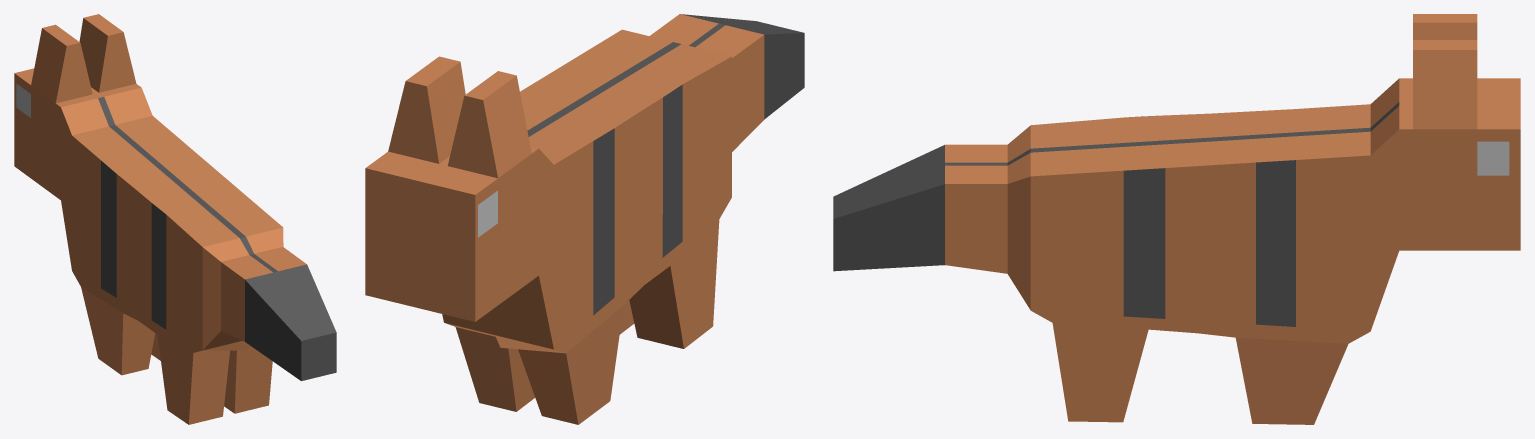
The model's file is Vieh.fbx.
The picture shows the model from 3 angles, left to right: view 1: azimuth 30°, elevation 25°; view 2: azimuth 150°, elevation 25°; view 3: azimuth 270°, elevation 25°; orthographic projection. The views are drawn at different scales.
Visible parts, largest first — view 1: Cube; view 2: Cube; view 3: Cube.
Part boxes in pixels (x1,y1,x2,y2): Cube: [14, 14, 336, 424]; Cube: [365, 14, 804, 424]; Cube: [833, 14, 1520, 424].
Bounding box in the file's own units: 201 × 673 × 1134.
